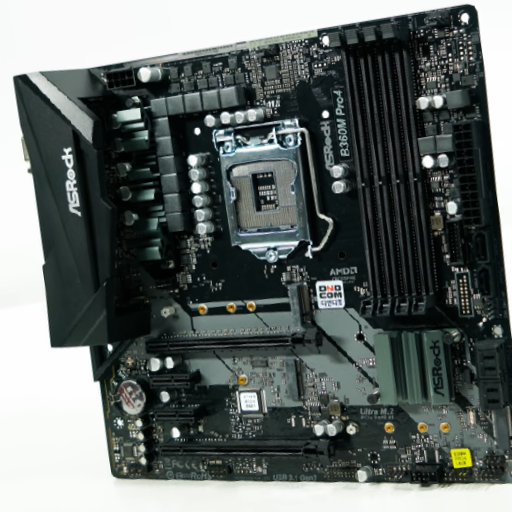CPU: (212, 117, 312, 265)
GPU: (146, 325, 320, 358), (159, 437, 334, 461)
MOTHERBOARD: (86, 3, 507, 487)
RAM: (329, 17, 437, 319)
SSD: (287, 283, 312, 327), (284, 360, 304, 402)
